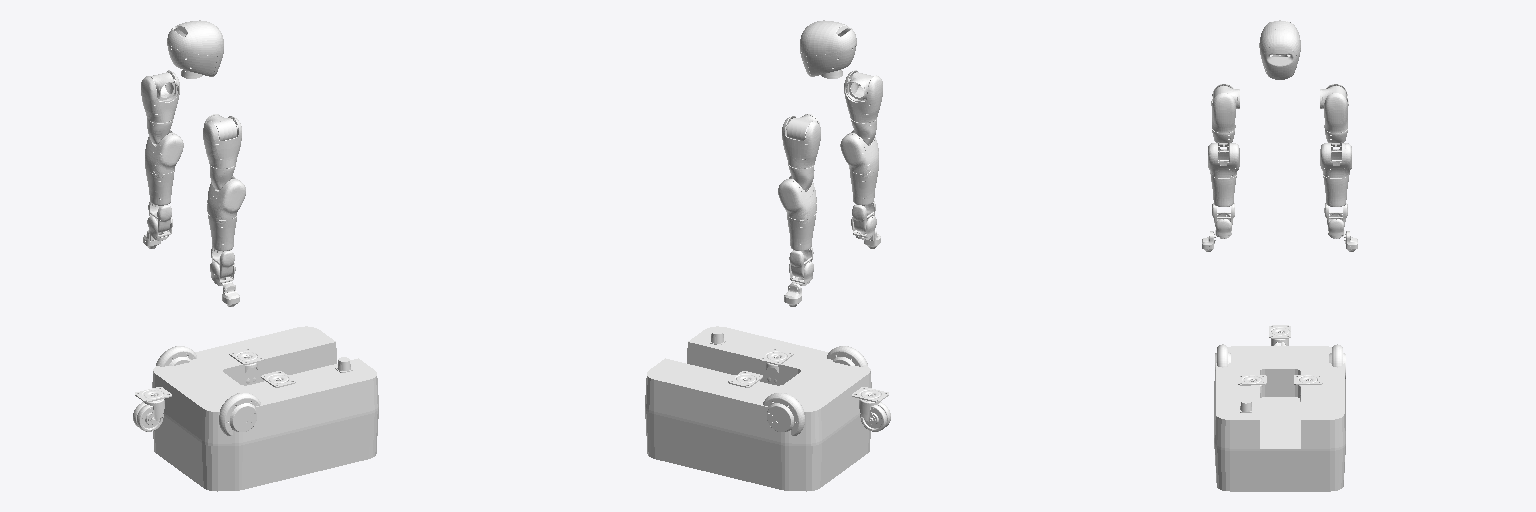
--- Facts derived from the render (not from the file) ---
3 views of the same robot in one strip: view 1: azimuth 30°, elevation 25°; view 2: azimuth 150°, elevation 25°; view 3: azimuth 270°, elevation 25° (orthographic).
Robot: k100 — 50 links, 49 joints (38 revolute, 11 fixed); root link world; default pose: every joint at zero.
Visible links, largest first — view 1: base_link, head_pitch_link, o_wheel1_Link, right_shoulder_roll_link, left_elbow_link, right_elbow_link, left_shoulder_roll_link, o_wheel3_Link, right_wrist_roll_link, left_wrist_roll_link, right_wrist_yaw_link, o_wheel2_Link; view 2: base_link, head_pitch_link, o_wheel2_Link, left_shoulder_roll_link, left_elbow_link, right_elbow_link, right_shoulder_roll_link, o_wheel3_Link, left_wrist_roll_link, right_wrist_roll_link, left_wrist_yaw_link, o_wheel1_Link; view 3: base_link, head_pitch_link, right_elbow_link, left_elbow_link, left_shoulder_roll_link, right_shoulder_roll_link, right_wrist_roll_link, left_wrist_roll_link, left_wrist_yaw_link, right_wrist_yaw_link.
Boxes of the visible links, x1,y1,x2,y2 form: base_link: [152, 326, 378, 491]; head_pitch_link: [167, 20, 223, 76]; o_wheel1_Link: [219, 393, 260, 435]; right_shoulder_roll_link: [203, 116, 241, 168]; left_elbow_link: [145, 130, 183, 174]; right_elbow_link: [207, 176, 245, 219]; left_shoulder_roll_link: [141, 70, 179, 122]; o_wheel3_Link: [133, 387, 171, 431]; right_wrist_roll_link: [208, 214, 236, 250]; left_wrist_roll_link: [145, 168, 174, 205]; right_wrist_yaw_link: [210, 262, 239, 306]; o_wheel2_Link: [156, 346, 196, 366]; base_link: [645, 326, 871, 491]; head_pitch_link: [800, 20, 856, 76]; o_wheel2_Link: [763, 393, 804, 435]; left_shoulder_roll_link: [782, 116, 820, 168]; left_elbow_link: [778, 175, 816, 219]; right_elbow_link: [840, 130, 878, 174]; right_shoulder_roll_link: [844, 70, 882, 122]; o_wheel3_Link: [852, 387, 890, 430]; left_wrist_roll_link: [787, 214, 815, 250]; right_wrist_roll_link: [849, 168, 878, 205]; left_wrist_yaw_link: [784, 261, 813, 306]; o_wheel1_Link: [827, 346, 867, 366]; base_link: [1214, 346, 1345, 491]; head_pitch_link: [1259, 20, 1300, 79]; right_elbow_link: [1208, 143, 1239, 177]; left_elbow_link: [1320, 143, 1351, 177]; left_shoulder_roll_link: [1324, 84, 1348, 132]; right_shoulder_roll_link: [1211, 84, 1235, 132]; right_wrist_roll_link: [1210, 174, 1236, 206]; left_wrist_roll_link: [1323, 175, 1348, 206]; left_wrist_yaw_link: [1328, 214, 1357, 251]; right_wrist_yaw_link: [1202, 214, 1231, 251].
Size in the robot's own frame: 0.8462 by 0.5984 by 1.68 metres.
Meshes: 49 distinct files referenced, 25 mesh visuals loaded (25 binary STL); not drawn: 24 (reference not matched to a file when rendering).

URDF robot description (k100):
<?xml version="1.0" encoding="utf-8"?>
<!-- This URDF was automatically created by SolidWorks to URDF Exporter! Originally created by Stephen Brawner ([email redacted]) 
     Commit Version: 1.6.0-1-g15f4949  Build Version: 1.6.7594.29634
     For more information, please see http://wiki.ros.org/sw_urdf_exporter -->
<robot
  name="k100">
  <link name="world"/>
  <joint name="world_to_base" type="fixed">
    <parent link="world"/>
    <child link="base_link"/>
    <origin xyz="0 0 0" rpy="0 0 0"/>
  </joint>
  <link
    name="base_link">
    <inertial>
      <origin
        xyz="-0.24697 -0.003266 0.43754"
        rpy="0 0 0" />
      <mass
        value="10.058" />
      <inertia
        ixx="0.11397"
        ixy="0.001501"
        ixz="0.0065128"
        iyy="0.11493"
        iyz="-2.0398E-05"
        izz="0.13655" />
    </inertial>
    <visual>
      <origin
        xyz="0 0 0"
        rpy="0 0 0" />
      <geometry>
        <mesh
          filename="package://k100_description/meshes/k100/base_link.STL" />
      </geometry>
      <material
        name="">
        <color
          rgba="1 1 1 1" />
      </material>
    </visual>
    <collision>
      <origin
        xyz="0 0 0"
        rpy="0 0 0" />
      <geometry>
        <mesh
          filename="package://k100_description/meshes/k100/base_link.STL" />
      </geometry>
    </collision>
  </link>
  <link
    name="head_yaw_link">
    <inertial>
      <origin
        xyz="0.0093095 -2.7111E-06 0.019585"
        rpy="0 0 0" />
      <mass
        value="0.033177" />
      <inertia
        ixx="1.0238E-05"
        ixy="2.0171E-07"
        ixz="2.8308E-06"
        iyy="3.6739E-05"
        iyz="-1.7681E-09"
        izz="3.7525E-05" />
    </inertial>
    <visual>
      <origin
        xyz="0 0 0"
        rpy="0 0 0" />
      <geometry>
        <mesh
          filename="package://k100_description/meshes/k100/head_yaw_link.STL" />
      </geometry>
      <material
        name="">
        <color
          rgba="1 1 1 1" />
      </material>
    </visual>
    <collision>
      <origin
        xyz="0 0 0"
        rpy="0 0 0" />
      <geometry>
        <mesh
          filename="package://k100_description/meshes/k100/head_yaw_link.STL" />
      </geometry>
    </collision>
  </link>
  <joint name="head_yaw_joint" type="revolute">
    <origin
      xyz="-0.2915 0 1.3065"
      rpy="0 0 0" />
    <parent
      link="base_link" />
    <child
      link="head_yaw_link" />
    <axis
      xyz="0 0 1" />
    <limit
      lower="-1"
      upper="1"
      effort="0"
      velocity="0" />
  </joint>
  <link
    name="head_pitch_link">
    <inertial>
      <origin
        xyz="-0.010336 0.043982 0.046524"
        rpy="0 0 0" />
      <mass
        value="0.34565" />
      <inertia
        ixx="0.0012251"
        ixy="1.6043E-06"
        ixz="0.00020762"
        iyy="0.0013023"
        iyz="-3.6288E-07"
        izz="0.0012224" />
    </inertial>
    <visual>
      <origin
        xyz="0 0 0"
        rpy="0 0 0" />
      <geometry>
        <mesh
          filename="package://k100_description/meshes/k100/head_pitch_link.STL" />
      </geometry>
      <material
        name="">
        <color
          rgba="1 1 1 1" />
      </material>
    </visual>
    <collision>
      <origin
        xyz="0 0 0"
        rpy="0 0 0" />
      <geometry>
        <mesh
          filename="package://k100_description/meshes/k100/head_pitch_link.STL" />
      </geometry>
    </collision>
  </link>
  <joint
    name="head_pitch_joint"
    type="revolute">
    <origin
      xyz="0.034003 -0.044 0.05251"
      rpy="0 0 0" />
    <parent
      link="head_yaw_link" />
    <child
      link="head_pitch_link" />
    <axis
      xyz="0 -1 0" />
    <limit
      lower="-1"
      upper="1"
      effort="0"
      velocity="0" />
  </joint>
  <link
    name="left_shoulder_pitch_link">
    <inertial>
      <origin
        xyz="-4.5858E-06 0.00022929 0.037911"
        rpy="0 0 0" />
      <mass
        value="0.032279" />
      <inertia
        ixx="3.4609E-05"
        ixy="2.6745E-08"
        ixz="-6.4702E-09"
        iyy="4.7862E-05"
        iyz="-3.7781E-07"
        izz="2.2147E-05" />
    </inertial>
    <visual>
      <origin
        xyz="0 0 0"
        rpy="0 0 0" />
      <geometry>
        <mesh
          filename="package://k100_description/meshes/k100/left_shoulder_pitch_link.STL" />
      </geometry>
      <material
        name="">
        <color
          rgba="1 1 1 1" />
      </material>
    </visual>
    <collision>
      <origin
        xyz="0 0 0"
        rpy="0 0 0" />
      <geometry>
        <mesh
          filename="package://k100_description/meshes/k100/left_shoulder_pitch_link.STL" />
      </geometry>
    </collision>
  </link>
  <joint
    name="left_shoulder_pitch_joint"
    type="revolute">
    <origin
      xyz="-0.29331 0.15637 1.1789"
      rpy="-1.5708 0 0" />
    <parent
      link="base_link" />
    <child
      link="left_shoulder_pitch_link" />
    <axis
      xyz="0 0 1" />
    <limit
      lower="-3.0229102644541785"
      upper="3.005456971934235"
      effort="10"
      velocity="100" />
  </joint>
  <link
    name="left_shoulder_roll_link">
    <inertial>
      <origin
        xyz="0.0529817223822346 0.000381292922410348 -0.0482468772809825"
        rpy="0 0 0" />
      <mass
        value="0.168282055709579" />
      <inertia
        ixx="0.000490405565826638"
        ixy="1.69743273244684E-07"
        ixz="-1.64076112806147E-06"
        iyy="0.000378920723871357"
        iyz="-8.62858713273323E-06"
        izz="0.000220523090720176" />
    </inertial>
    <visual>
      <origin
        xyz="0 0 0"
        rpy="0 0 0" />
      <geometry>
        <mesh
          filename="package://k100_description/meshes/k100/left_shoulder_roll_link.STL" />
      </geometry>
      <material
        name="">
        <color
          rgba="1 1 1 1" />
      </material>
    </visual>
    <collision>
      <origin
        xyz="0 0 0"
        rpy="0 0 0" />
      <geometry>
        <mesh
          filename="package://k100_description/meshes/k100/left_shoulder_roll_link.STL" />
      </geometry>
    </collision>
  </link>
  <joint
    name="left_shoulder_roll_joint"
    type="revolute">
    <origin
      xyz="-0.052528 0 0.057497"
      rpy="1.5708 0 0" />
    <parent
      link="left_shoulder_pitch_link" />
    <child
      link="left_shoulder_roll_link" />
    <axis
      xyz="-1 0 0" />
    <limit
      lower="-3.4033920413889422"
      upper="0.3490658503988659"
      effort="10"
      velocity="100" />
  </joint>
  <link
    name="left_shoulder_yaw_link">
    <inertial>
      <origin
        xyz="0.047728 -0.21486 -0.58242"
        rpy="0 0 0" />
      <mass
        value="13.966" />
      <inertia
        ixx="2.7495"
        ixy="-0.00097403"
        ixz="0.10462"
        iyy="2.6756"
        iyz="0.040666"
        izz="0.52568" />
    </inertial>
    <visual>
      <origin
        xyz="0 0 0"
        rpy="0 0 0" />
      <geometry>
        <mesh
          filename="package://k100_description/meshes/k100/left_shoulder_yaw_link.STL" />
      </geometry>
      <material
        name="">
        <color
          rgba="1 1 1 1" />
      </material>
    </visual>
    <collision>
      <origin
        xyz="0 0 0"
        rpy="0 0 0" />
      <geometry>
        <mesh
          filename="package://k100_description/meshes/k100/left_shoulder_yaw_link.STL" />
      </geometry>
    </collision>
  </link>
  <joint
    name="left_shoulder_yaw_joint"
    type="revolute">
    <origin
      xyz="0.052528 0 -0.1236"
      rpy="0 0 0" />
    <parent
      link="left_shoulder_roll_link" />
    <child
      link="left_shoulder_yaw_link" />
    <axis
      xyz="0 0 -1" />
    <limit
      lower="-1.5707963267948966"
      upper="3.141592653589793"
      effort="10"
      velocity="100" />
  </joint>
  <link
    name="left_elbow_link">
    <inertial>
      <origin
        xyz="-0.012869743810657 0.000118692786157143 -0.02840138793709"
        rpy="0 0 0" />
      <mass
        value="0.165774576195281" />
      <inertia
        ixx="0.000284792774512073"
        ixy="-1.15754165048357E-06"
        ixz="-4.79563912327492E-05"
        iyy="0.000429664716893545"
        iyz="-1.77355295217618E-06"
        izz="0.000243113442796536" />
    </inertial>
    <visual>
      <origin
        xyz="0 0 0"
        rpy="0 0 0" />
      <geometry>
        <mesh
          filename="package://k100_description/meshes/k100/left_elbow_link.STL" />
      </geometry>
      <material
        name="">
        <color
          rgba="1 1 1 1" />
      </material>
    </visual>
    <collision>
      <origin
        xyz="0 0 0"
        rpy="0 0 0" />
      <geometry>
        <mesh
          filename="package://k100_description/meshes/k100/left_elbow_link.STL" />
      </geometry>
    </collision>
  </link>
  <joint
    name="left_elbow_joint"
    type="revolute">
    <origin
      xyz="0.024 0 -0.0964"
      rpy="0 0 0" />
    <parent
      link="left_shoulder_yaw_link" />
    <child
      link="left_elbow_link" />
    <axis
      xyz="0 -1 0" />
    <limit
      lower="-1.5707963267948966"
      upper="2.871066619530672"
      effort="10"
      velocity="100" />
  </joint>
  <link
    name="left_wrist_roll_link">
    <inertial>
      <origin
        xyz="0.0019178 0.00010108 -0.057332"
        rpy="0 0 0" />
      <mass
        value="0.11845" />
      <inertia
        ixx="0.00025823"
        ixy="-2.2846E-08"
        ixz="-1.1422E-08"
        iyy="0.00016834"
        iyz="5.6665E-07"
        izz="0.00012666" />
    </inertial>
    <visual>
      <origin
        xyz="0 0 0"
        rpy="0 0 0" />
      <geometry>
        <mesh
          filename="package://k100_description/meshes/k100/left_wrist_roll_link.STL" />
      </geometry>
      <material
        name="">
        <color
          rgba="1 1 1 1" />
      </material>
    </visual>
    <collision>
      <origin
        xyz="0 0 0"
        rpy="0 0 0" />
      <geometry>
        <mesh
          filename="package://k100_description/meshes/k100/left_wrist_roll_link.STL" />
      </geometry>
    </collision>
  </link>
  <joint
    name="left_wrist_roll_joint"
    type="revolute">
    <origin
      xyz="-0.02574 0 -0.094"
      rpy="0 0 0" />
    <parent
      link="left_elbow_link" />
    <child
      link="left_wrist_roll_link" />
    <axis
      xyz="0 0 -1" />
    <limit
      lower="-2.9670597283903604"
      upper="3.01941960595019"
      effort="10"
      velocity="100" />
  </joint>
  <link
    name="left_wrist_pitch_link">
    <inertial>
      <origin
        xyz="-0.000376443250173261 0.0385887267181524 -0.0284852092797504"
        rpy="0 0 0" />
      <mass
        value="0.0508307380202339" />
      <inertia
        ixx="6.07885115247108E-05"
        ixy="-6.74245978776449E-09"
        ixz="-5.22922284897702E-07"
        iyy="6.71946692283685E-05"
        iyz="-4.67909273179692E-07"
        izz="1.93580958562299E-05" />
    </inertial>
    <visual>
      <origin
        xyz="0 0 0"
        rpy="0 0 0" />
      <geometry>
        <mesh
          filename="package://k100_description/meshes/k100/left_wrist_pitch_link.STL" />
      </geometry>
      <material
        name="">
        <color
          rgba="1 1 1 1" />
      </material>
    </visual>
    <collision>
      <origin
        xyz="0 0 0"
        rpy="0 0 0" />
      <geometry>
        <mesh
          filename="package://k100_description/meshes/k100/left_wrist_pitch_link.STL" />
      </geometry>
    </collision>
  </link>
  <joint
    name="left_wrist_pitch_joint"
    type="revolute">
    <origin
      xyz="0.0017429 -0.03829 -0.152"
      rpy="0 0 0" />
    <parent
      link="left_wrist_roll_link" />
    <child
      link="left_wrist_pitch_link" />
    <axis
      xyz="0 -1 0" />
    <limit
      lower="-1.8151424220741028"
      upper="1.8849555921538759"
      effort="10"
      velocity="100" />
  </joint>
  <link
    name="left_wrist_yaw_link">
    <inertial>
      <origin
        xyz="-0.026886 0.02123 -0.053746"
        rpy="0 0 0" />
      <mass
        value="0.15595" />
      <inertia
        ixx="6.5671E-05"
        ixy="-4.9995E-08"
        ixz="9.659E-09"
        iyy="5.3338E-05"
        iyz="5.4196E-06"
        izz="6.5262E-05" />
    </inertial>
    <visual>
      <origin
        xyz="0 0 0"
        rpy="0 0 0" />
      <geometry>
        <mesh
          filename="package://k100_description/meshes/k100/left_wrist_yaw_link.STL" />
      </geometry>
      <material
        name="">
        <color
          rgba="1 1 1 1" />
      </material>
    </visual>
    <collision>
      <origin
        xyz="0 0 0"
        rpy="0 0 0" />
      <geometry>
        <mesh
          filename="package://k100_description/meshes/k100/left_wrist_yaw_link.STL" />
      </geometry>
    </collision>
  </link>
  <joint
    name="left_wrist_yaw_joint"
    type="revolute">
    <origin
      xyz="0.026797 0.0383 -0.053999"
      rpy="0 0 0" />
    <parent
      link="left_wrist_pitch_link" />
    <child
      link="left_wrist_yaw_link" />
    <axis
      xyz="1 0 0" />
    <limit
      lower="-1.5707963267948966"
      upper="1.605702911834783"
      effort="10"
      velocity="100" />
  </joint>
  <link
    name="right_shoulder_pitch_link">
    <inertial>
      <origin
        xyz="4.3409E-06 -0.00022905 0.043911"
        rpy="0 0 0" />
      <mass
        value="0.032279" />
      <inertia
        ixx="3.4609E-05"
        ixy="2.6745E-08"
        ixz="6.4702E-09"
        iyy="4.7862E-05"
        iyz="3.7781E-07"
        izz="2.2147E-05" />
    </inertial>
    <visual>
      <origin
        xyz="0 0 0"
        rpy="0 0 0" />
      <geometry>
        <mesh
          filename="package://k100_description/meshes/k100/right_shoulder_pitch_link.STL" />
      </geometry>
      <material
        name="">
        <color
          rgba="1 1 1 1" />
      </material>
    </visual>
    <collision>
      <origin
        xyz="0 0 0"
        rpy="0 0 0" />
      <geometry>
        <mesh
          filename="package://k100_description/meshes/k100/right_shoulder_pitch_link.STL" />
      </geometry>
    </collision>
  </link>
  <joint
    name="right_shoulder_pitch_joint"
    type="revolute">
    <origin
      xyz="-0.29331 -0.15184 1.1789"
      rpy="1.5708 0 0" />
    <parent
      link="base_link" />
    <child
      link="right_shoulder_pitch_link" />
    <axis
      xyz="0 0 -1" />
    <limit
      lower="-3.0229102644541785"
      upper="3.005456971934235"
      effort="10"
      velocity="100" />
  </joint>
  <link
    name="right_shoulder_roll_link">
    <inertial>
      <origin
        xyz="0.00039109 -0.0003817 -0.048245"
        rpy="0 0 0" />
      <mass
        value="0.16826" />
      <inertia
        ixx="0.00049035"
        ixy="2.6217E-07"
        ixz="2.8524E-07"
        iyy="0.00037893"
        iyz="8.6202E-06"
        izz="0.0002205" />
    </inertial>
    <visual>
      <origin
        xyz="0 0 0"
        rpy="0 0 0" />
      <geometry>
        <mesh
          filename="package://k100_description/meshes/k100/right_shoulder_roll_link.STL" />
      </geometry>
      <material
        name="">
        <color
          rgba="1 1 1 1" />
      </material>
    </visual>
    <collision>
      <origin
        xyz="0 0 0"
        rpy="0 0 0" />
      <geometry>
        <mesh
          filename="package://k100_description/meshes/k100/right_shoulder_roll_link.STL" />
      </geometry>
    </collision>
  </link>
  <joint
    name="right_shoulder_roll_joint"
    type="revolute">
    <origin
      xyz="0 0 0.063497"
      rpy="-1.5708 0 0" />
    <parent
      link="right_shoulder_pitch_link" />
    <child
      link="right_shoulder_roll_link" />
    <axis
      xyz="1 0 0" />
    <limit
      lower="-3.4033920413889422"
      upper="0.29670597283903605"
      effort="10"
      velocity="100" />
  </joint>

  <link
    name="right_shoulder_yaw_link">
    <inertial>
      <origin
        xyz="0.047728 0.21434 -0.58242"
        rpy="0 0 0" />
      <mass
        value="13.966" />
      <inertia
        ixx="2.7495"
        ixy="-0.00097403"
        ixz="0.10462"
        iyy="2.6756"
        iyz="0.040666"
        izz="0.52568" />
    </inertial>
    <visual>
      <origin
        xyz="0 0 0"
        rpy="0 0 0" />
      <geometry>
        <mesh
          filename="package://k100_description/meshes/k100/right_shoulder_yaw_link.STL" />
      </geometry>
      <material
        name="">
        <color
          rgba="1 1 1 1" />
      </material>
    </visual>
    <collision>
      <origin
        xyz="0 0 0"
        rpy="0 0 0" />
      <geometry>
        <mesh
          filename="package://k100_description/meshes/k100/right_shoulder_yaw_link.STL" />
      </geometry>
    </collision>
  </link>
  <joint
    name="right_shoulder_yaw_joint"
    type="revolute">
    <origin
      xyz="0 0 -0.1236"
      rpy="0 0 0" />
    <parent
      link="right_shoulder_roll_link" />
    <child
      link="right_shoulder_yaw_link" />
    <axis
      xyz="0 0 1" />
    <limit
      lower="-1.5707963267948966"
      upper="3.141592653589793"
      effort="10"
      velocity="100" />
  </joint>
  <link
    name="right_elbow_link">
    <inertial>
      <origin
        xyz="-0.012827 -0.0009453 -0.028372"
        rpy="0 0 0" />
      <mass
        value="0.16555" />
      <inertia
        ixx="0.00028451"
        ixy="6.8087E-07"
        ixz="-4.7913E-05"
        iyy="0.00042913"
        iyz="2.0386E-06"
        izz="0.00024258" />
    </inertial>
    <visual>
      <origin
        xyz="0 0 0"
        rpy="0 0 0" />
      <geometry>
        <mesh
          filename="package://k100_description/meshes/k100/right_elbow_link.STL" />
      </geometry>
      <material
        name="">
        <color
          rgba="1 1 1 1" />
      </material>
    </visual>
    <collision>
      <origin
        xyz="0 0 0"
        rpy="0 0 0" />
      <geometry>
        <mesh
          filename="package://k100_description/meshes/k100/right_elbow_link.STL" />
      </geometry>
    </collision>
  </link>
  <joint
    name="right_elbow_joint"
    type="revolute">
    <origin
      xyz="0.024 0.0003 -0.0964"
      rpy="0 0 0" />
    <parent
      link="right_shoulder_yaw_link" />
    <child
      link="right_elbow_link" />
    <axis
      xyz="0 -1 0" />
    <limit
      lower="-1.5533430342749535"
      upper="2.897246558310587"
      effort="10"
      velocity="100" />
  </joint>
  <link
    name="right_wrist_roll_link">
    <inertial>
      <origin
        xyz="0.0019175 0.0001012 -0.057332"
        rpy="0 0 0" />
      <mass
        value="0.11845" />
      <inertia
        ixx="0.00025823"
        ixy="-2.314E-08"
        ixz="-1.1321E-08"
        iyy="0.00016834"
        iyz="5.6668E-07"
        izz="0.00012666" />
    </inertial>
    <visual>
      <origin
        xyz="0 0 0"
        rpy="0 0 0" />
      <geometry>
        <mesh
          filename="package://k100_description/meshes/k100/right_wrist_roll_link.STL" />
      </geometry>
      <material
        name="">
        <color
          rgba="1 1 1 1" />
      </material>
    </visual>
    <collision>
      <origin
        xyz="0 0 0"
        rpy="0 0 0" />
      <geometry>
        <mesh
          filename="package://k100_description/meshes/k100/right_wrist_roll_link.STL" />
      </geometry>
    </collision>
  </link>
  <joint
    name="right_wrist_roll_joint"
    type="revolute">
    <origin
      xyz="-0.02574 -0.00030967 -0.094"
      rpy="0 0 0" />
      
    <parent
      link="right_elbow_link" />
    <child
      link="right_wrist_roll_link" />
   <axis
      xyz="0 0 1" />
    <limit
      lower="-1.8325957145940461"
      upper="1.8325957145940461"
      effort="10"
      velocity="100" />
  </joint>
  <link
    name="right_wrist_pitch_link">
    <inertial>
      <origin
        xyz="-0.00037598 0.037227 -0.028477"
        rpy="0 0 0" />
      <mass
        value="0.05082" />
      <inertia
        ixx="6.077E-05"
        ixy="1.5462E-09"
        ixz="-5.2222E-07"
        iyy="6.7177E-05"
        iyz="5.052E-07"
        izz="1.9356E-05" />
    </inertial>
    <visual>
      <origin
        xyz="0 0 0"
        rpy="0 0 0" />
      <geometry>
        <mesh
          filename="package://k100_description/meshes/k100/right_wrist_pitch_link.STL" />
      </geometry>
      <material
        name="">
        <color
          rgba="1 1 1 1" />
      </material>
    </visual>
    <collision>
      <origin
        xyz="0 0 0"
        rpy="0 0 0" />
      <geometry>
        <mesh
          filename="package://k100_description/meshes/k100/right_wrist_pitch_link.STL" />
      </geometry>
    </collision>
  </link>
    <joint
    name="right_wrist_pitch_joint"
    type="revolute">
    <origin
      xyz="0.0017429 -0.03829 -0.152"
      rpy="0 0 0" />
    <parent
      link="right_wrist_roll_link" />
    <child
      link="right_wrist_pitch_link" />
     <axis
      xyz="0 -1 0" />
    <limit
      lower="-1.8325957145940461"
      upper="1.8325957145940461"
      effort="10"
      velocity="100" />
  </joint>
  <link
    name="right_wrist_yaw_link">
    <inertial>
      <origin
        xyz="-0.026833 -0.021351 -0.053746"
        rpy="0 0 0" />
      <mass
        value="0.15595" />
      <inertia
        ixx="6.5671E-05"
        ixy="-4.9993E-08"
        ixz="1.9957E-08"
        iyy="5.3338E-05"
        iyz="-5.9111E-06"
        izz="6.5262E-05" />
    </inertial>
    <visual>
      <origin
        xyz="0 0 0"
        rpy="0 0 0" />
      <geometry>
        <mesh
          filename="package://k100_description/meshes/k100/right_wrist_yaw_link.STL" />
      </geometry>
      <material
        name="">
        <color
          rgba="1 1 1 1" />
      </material>
    </visual>
    <collision>
      <origin
        xyz="0 0 0"
        rpy="0 0 0" />
      <geometry>
        <mesh
          filename="package://k100_description/meshes/k100/right_wrist_yaw_link.STL" />
      </geometry>
    </collision>
  </link>
  <joint
    name="right_wrist_yaw_joint"
    type="revolute">
    <origin
      xyz="0.026797 0.0383 -0.053999"
      rpy="0 0 0" />
    <parent
      link="right_wrist_pitch_link" />
    <child
      link="right_wrist_yaw_link" />
    <axis
      xyz="-1 0 0" />
    <limit
      lower="-1.5882496193148399"
      upper="1.5882496193148399"
      effort="10"
      velocity="100" />
  </joint>
  <link
    name="o_wheel1_Link">
    <inertial>
      <origin
        xyz="-6.8663E-06 -0.033131 5.3329E-06"
        rpy="0 0 0" />
      <mass
        value="0.49216" />
      <inertia
        ixx="0.0011111"
        ixy="-3.5628E-08"
        ixz="-5.8814E-09"
        iyy="0.0021452"
        iyz="1.3891E-08"
        izz="0.0011111" />
    </inertial>
    <visual>
      <origin
        xyz="0 0 0"
        rpy="0 0 0" />
      <geometry>
        <mesh
          filename="package://k100_description/meshes/k100/o_wheel1_Link.STL" />
      </geometry>
      <material
        name="">
        <color
          rgba="1 1 1 1" />
      </material>
    </visual>
    <collision>
      <origin
        xyz="0 0 0"
        rpy="0 0 0" />
      <geometry>
        <mesh
          filename="package://k100_description/meshes/k100/o_wheel1_Link.STL" />
      </geometry>
    </collision>
  </link>
  <joint
    name="w_body_wheel1_joint"
    type="fixed">
    <origin
      xyz="-0.2245 -0.1858 0.085"
      rpy="0 0 0" />
    <parent
      link="base_link" />
    <child
      link="o_wheel1_Link" />
    <axis
      xyz="0 -1 0" />
  </joint>
  <link
    name="o_wheel2_Link">
    <inertial>
      <origin
        xyz="-7.0583E-06 0.033132 5.0699E-06"
        rpy="0 0 0" />
      <mass
        value="0.49215" />
      <inertia
        ixx="0.0011111"
        ixy="3.4274E-08"
        ixz="-5.7353E-09"
        iyy="0.0021452"
        iyz="-1.5505E-08"
        izz="0.001111" />
    </inertial>
    <visual>
      <origin
        xyz="0 0 0"
        rpy="0 0 0" />
      <geometry>
        <mesh
          filename="package://k100_description/meshes/k100/o_wheel2_Link.STL" />
      </geometry>
      <material
        name="">
        <color
          rgba="1 1 1 1" />
      </material>
    </visual>
    <collision>
      <origin
        xyz="0 0 0"
        rpy="0 0 0" />
      <geometry>
        <mesh
          filename="package://k100_description/meshes/k100/o_wheel2_Link.STL" />
      </geometry>
    </collision>
  </link>
  <joint
    name="w_body_wheel2_joint"
    type="fixed">
    <origin
      xyz="-0.2245 0.1858 0.085"
      rpy="0 0 0" />
    <parent
      link="base_link" />
    <child
      link="o_wheel2_Link" />
    <axis
      xyz="0 1 0" />
  </joint>
  <link
    name="o_wheel3_Link">
    <inertial>
      <origin
        xyz="-0.0199999967173905 -1.09082498357946E-10 -0.0759999999999938"
        rpy="0 0 0" />
      <mass
        value="0.0865252381159967" />
      <inertia
        ixx="9.47065367250295E-05"
        ixy="3.97322843103075E-19"
        ixz="-3.9510490256026E-12"
        iyy="0.000182809576289922"
        iyz="-1.20119572882808E-19"
        izz="9.4688065891407E-05" />
    </inertial>
    <visual>
      <origin
        xyz="0 0 0"
        rpy="0 0 0" />
      <geometry>
        <mesh
          filename="package://k100_description/meshes/k100/o_wheel3_Link.STL" />
      </geometry>
      <material
        name="">
        <color
          rgba="1 1 1 1" />
      </material>
    </visual>
    <collision>
      <origin
        xyz="0 0 0"
        rpy="0 0 0" />
      <geometry>
        <mesh
          filename="package://k100_description/meshes/k100/o_wheel3_Link.STL" />
      </geometry>
    </collision>
  </link>
  <joint
    name="w_body_wheel3_joint"
    type="fixed">
    <origin
      xyz="-0.4445 0 0.126"
      rpy="0 0 0" />
    <parent
      link="base_link" />
    <child
      link="o_wheel3_Link" />
    <axis
      xyz="0 0 -1" />
  </joint>
  <link
    name="o_wheel3_1_Link">
    <inertial>
      <origin
        xyz="3.2825E-09 0.018 2.6532E-13"
        rpy="0 0 0" />
      <mass
        value="0.086525" />
      <inertia
        ixx="9.4707E-05"
        ixy="3.9732E-19"
        ixz="-3.951E-12"
        iyy="0.00018281"
        iyz="-1.2012E-19"
        izz="9.4688E-05" />
    </inertial>
    <visual>
      <origin
        xyz="0 0 0"
        rpy="0 0 0" />
      <geometry>
        <mesh
          filename="package://k100_description/meshes/k100/o_wheel3_1_Link.STL" />
      </geometry>
      <material
        name="">
        <color
          rgba="1 1 1 1" />
      </material>
    </visual>
    <collision>
      <origin
        xyz="0 0 0"
        rpy="0 0 0" />
      <geometry>
        <mesh
          filename="package://k100_description/meshes/k100/o_wheel3_1_Link.STL" />
      </geometry>
    </collision>
  </link>
  <joint
    name="w_body_wheel3_1_joint"
    type="fixed">
    <origin
      xyz="-0.02 -0.018 -0.076"
      rpy="0 0 0" />
    <parent
      link="o_wheel3_Link" />
    <child
      link="o_wheel3_1_Link" />
    <axis
      xyz="0 -1 0" />
  </joint>
  <link
    name="o_wheel4_Link">
    <inertial>
      <origin
        xyz="-0.00028246 0.019998 -0.076"
        rpy="0 0 0" />
      <mass
        value="0.086776" />
      <inertia
        ixx="0.0001828"
        ixy="1.2442E-06"
        ixz="-5.5784E-14"
        iyy="9.473E-05"
        iyz="3.9495E-12"
        izz="9.4694E-05" />
    </inertial>
    <visual>
      <origin
        xyz="0 0 0"
        rpy="0 0 0" />
      <geometry>
        <mesh
          filename="package://k100_description/meshes/k100/o_wheel4_Link.STL" />
      </geometry>
      <material
        name="">
        <color
          rgba="1 1 1 1" />
      </material>
    </visual>
    <collision>
      <origin
        xyz="0 0 0"
        rpy="0 0 0" />
      <geometry>
        <mesh
          filename="package://k100_description/meshes/k100/o_wheel4_Link.STL" />
      </geometry>
    </collision>
  </link>
  <joint
    name="w_body_wheel4_joint"
    type="fixed">
    <origin
      xyz="-0.011114 0.10642 0.126"
      rpy="0 0 0" />
    <parent
      link="base_link" />
    <child
      link="o_wheel4_Link" />
    <axis
      xyz="0 0 1" />
  </joint>
  <link
    name="o_wheel4_1_Link">
    <inertial>
      <origin
        xyz="0.017998 0.00025421 2.6533E-13"
        rpy="0 0 0" />
      <mass
        value="0.086525" />
      <inertia
        ixx="0.00018279"
        ixy="1.2441E-06"
        ixz="-5.5784E-14"
        iyy="9.4724E-05"
        iyz="3.9495E-12"
        izz="9.4688E-05" />
    </inertial>
    <visual>
      <origin
        xyz="0 0 0"
        rpy="0 0 0" />
      <geometry>
        <mesh
          filename="package://k100_description/meshes/k100/o_wheel4_1_Link.STL" />
      </geometry>
      <material
        name="">
        <color
          rgba="1 1 1 1" />
      </material>
    </visual>
    <collision>
      <origin
        xyz="0 0 0"
        rpy="0 0 0" />
      <geometry>
        <mesh
          filename="package://k100_description/meshes/k100/o_wheel4_1_Link.STL" />
      </geometry>
    </collision>
  </link>
  <joint
    name="w_body_wheel4_1_joint"
    type="fixed">
    <origin
      xyz="-0.018281 0.019744 -0.076"
      rpy="0 0 0" />
    <parent
      link="o_wheel4_Link" />
    <child
      link="o_wheel4_1_Link" />
    <axis
      xyz="-0.9999 -0.014123 0" />
  </joint>
  <link
    name="o_wheel5_Link">
    <inertial>
      <origin
        xyz="0.00037442 -0.019996 -0.076"
        rpy="0 0 0" />
      <mass
        value="0.086776" />
      <inertia
        ixx="0.00018279"
        ixy="1.6492E-06"
        ixz="7.3946E-14"
        iyy="9.4743E-05"
        iyz="-3.9492E-12"
        izz="9.4694E-05" />
    </inertial>
    <visual>
      <origin
        xyz="0 0 0"
        rpy="0 0 0" />
      <geometry>
        <mesh
          filename="package://k100_description/meshes/k100/o_wheel5_Link.STL" />
      </geometry>
      <material
        name="">
        <color
          rgba="1 1 1 1" />
      </material>
    </visual>
    <collision>
      <origin
        xyz="0 0 0"
        rpy="0 0 0" />
      <geometry>
        <mesh
          filename="package://k100_description/meshes/k100/o_wheel5_Link.STL" />
      </geometry>
    </collision>
  </link>
  <joint
    name="w_body_wheel5_joint"
    type="fixed">
    <origin
      xyz="-0.0096938 -0.10655 0.126"
      rpy="0 0 0" />
    <parent
      link="base_link" />
    <child
      link="o_wheel5_Link" />
    <axis
      xyz="0 0 1" />
  </joint>
  <link
    name="o_wheel5_1_Link">
    <inertial>
      <origin
        xyz="-0.017997 -0.00033697 2.6533E-13"
        rpy="0 0 0" />
      <mass
        value="0.086525" />
      <inertia
        ixx="0.00018278"
        ixy="1.6491E-06"
        ixz="7.3946E-14"
        iyy="9.4737E-05"
        iyz="-3.9492E-12"
        izz="9.4688E-05" />
    </inertial>
    <visual>
      <origin
        xyz="0 0 0"
        rpy="0 0 0" />
      <geometry>
        <mesh
          filename="package://k100_description/meshes/k100/o_wheel5_1_Link.STL" />
      </geometry>
      <material
        name="">
        <color
          rgba="1 1 1 1" />
      </material>
    </visual>
    <collision>
      <origin
        xyz="0 0 0"
        rpy="0 0 0" />
      <geometry>
        <mesh
          filename="package://k100_description/meshes/k100/o_wheel5_1_Link.STL" />
      </geometry>
    </collision>
  </link>
  <joint
    name="w_body_wheel5_1_joint"
    type="fixed">
    <origin
      xyz="0.018371 -0.01966 -0.076"
      rpy="0 0 0" />
    <parent
      link="o_wheel5_Link" />
    <child
      link="o_wheel5_1_Link" />
    <axis
      xyz="-0.99982 -0.018721 0" />
  </joint>

  <!-- left hand -->



  <joint name="L_base_link_joint" type="fixed">
    <origin xyz="-0.0268 0.005 -0.051" rpy="0 -1.57 -1.57"/>
    <parent link="left_wrist_yaw_link"/>
    <child link="L_hand_base_link"/>
  </joint>
  
  
  <link name="L_hand_base_link">
    <inertial>
      <origin xyz="-0.0545705623202243 0.000958522654081762 -0.00306438373173582" rpy="0 0 0" />
      <mass value="0.0367658161456593" />
      <inertia ixx="1.4186714203091E-05" ixy="2.20190989146005E-06" ixz="5.69534967571968E-07"
               iyy="1.58584689691376E-05" iyz="1.24561852404914E-07" izz="2.47326344757226E-05" />
    </inertial>
    <visual>
      <origin xyz="0 0 0" rpy="0 0 0" />
      <geometry>
        <mesh filename="package://k100_description/meshes/meshes_rohand_lites/L_base_link.STL" />
      </geometry>
      <material name="">
        <color rgba="1 1 1 1" />
      </material>
    </visual>
    <collision>
      <origin xyz="0 0 0" rpy="0 0 0" />
      <geometry>
        <mesh filename="package://k100_description/meshes/meshes_rohand_lites/L_base_link.STL" />
      </geometry>
    </collision>
  </link>

  <link name="L_thumb_proximal_base">
    <inertial>
      <origin xyz="-0.0191689187756942 0.00569828615821762 -0.0016693852678177" rpy="0 0 0" />
      <mass value="0.00195345377003282" />
      <inertia ixx="1.6596112048292E-07" ixy="7.96099037248168E-08" ixz="-1.16578799172214E-08"
               iyy="1.8147620690714E-07" iyz="1.22841840818757E-08" izz="2.16329221955122E-07" />
    </inertial>
    <visual>
      <origin xyz="0 0 0" rpy="0 0 0" />
      <geometry>
        <mesh filename="package://k100_description/meshes/meshes_rohand_lites/L_th_root_link.STL" />
      </geometry>
      <material name="">
        <color rgba="1 1 1 1" />
      </material>
    </visual>
    <collision>
      <origin xyz="0 0 0" rpy="0 0 0" />
      <geometry>
        <mesh filename="package://k100_description/meshes/meshes_rohand_lites/L_th_root_link.STL" />
      </geometry>
    </collision>
  </link>

  <joint name="L_thumb_proximal_yaw_joint" type="revolute">
    <origin xyz="-0.02474 0.01826 -0.019216" rpy="0.0075757 -0.22303 -0.034238" />
    <parent link="L_hand_base_link" />
    <child link="L_thumb_proximal_base" />
    <axis xyz="-1 0 0" />
    <limit lower="-0.1" upper="1.7" effort="1" velocity="2.0" acceleration="5.0" />
  </joint>

  <link name="L_thumb_proximal">
    <inertial>
      <origin xyz="-0.0185320909111181 0.00765760336647799 0.00769895948516403" rpy="0 0 0" />
      <mass value="0.00646398971921865" />
      <inertia ixx="5.69701043131816E-07" ixy="4.94299712334608E-07" ixz="-1.81638866874203E-09"
               iyy="1.67594826700605E-06" iyz="5.54953034071743E-10" izz="2.12783428410059E-06" />
    </inertial>
    <visual>
      <origin xyz="0 0 0" rpy="0 0 0" />
      <geometry>
        <mesh filename="package://k100_description/meshes/meshes_rohand_lites/L_th_proximal_link.STL" />
      </geometry>
      <material name="">
        <color rgba="1 1 1 1" />
      </material>
    </visual>
    <collision>
      <origin xyz="0 0 0" rpy="0 0 0" />
      <geometry>
        <mesh filename="package://k100_description/meshes/meshes_rohand_lites/L_th_proximal_link.STL" />
      </geometry>
    </collision>
  </link>

  <joint name="L_thumb_proximal_pitch_joint" type="revolute">
    <origin xyz="-0.0281675109233723 0.0206776396558676 -0.010414259606288" rpy="-0.00721290411178693 0.000240878411888333 0.0333895499404722" />
    <parent link="L_thumb_proximal_base" />
    <child link="L_thumb_proximal" />
    <axis xyz="0 0 1" />
    <limit lower="0.0" upper="0.4" effort="1" velocity="2.0" acceleration="5.0" />
  </joint>

  <link name="L_thumb_distal">
    <inertial>
      <origin xyz="-0.00904754564000706 0.00635260162604825 0.00681129533264973" rpy="0 0 0" />
      <mass value="0.00464616025042038" />
      <inertia ixx="1.73155668678773E-07" ixy="2.14376248212519E-08" ixz="7.68875433779967E-12"
               iyy="2.35273874670456E-07" iyz="-7.75559011609892E-13" izz="2.09949102085074E-07" />
    </inertial>
    <visual>
      <origin xyz="0 0 0" rpy="0 0 0" />
      <geometry>
        <mesh filename="package://k100_description/meshes/meshes_rohand_lites/L_th_distal_link.STL" />
      </geometry>
      <material name="">
        <color rgba="1 1 1 1" />
      </material>
    </visual>
    <collision>
      <origin xyz="0 0 0" rpy="0 0 0" />
      <geometry>
        <mesh filename="package://k100_description/meshes/meshes_rohand_lites/L_th_distal_link.STL" />
      </geometry>
    </collision>
  </link>

  <joint name="L_thumb_distal_joint" type="revolute">
    <origin xyz="-0.0479097598406365 0.0140073523016571 0.000879436248969738" rpy="0 0 0" />
    <parent link="L_thumb_proximal" />
    <child link="L_thumb_distal" />
    <axis xyz="0 0 1" />
    <limit lower="0" upper="1.2" effort="1" velocity="2.0" acceleration="5.0" />
    <mimic joint="L_thumb_proximal_pitch_joint" multiplier="1.0" offset="0" />
  </joint>

  <link name="L_index_proximal">
    <inertial>
      <origin xyz="-0.01442568349862 0.00682000254611658 0.0074253497626635" rpy="0 0 0" />
      <mass value="0.0020519557292877" />
      <inertia ixx="8.09627570327931E-08" ixy="4.81487284472085E-12" ixz="2.82088862566871E-08"
               iyy="1.89814037862563E-07" iyz="-4.52934896397488E-12" izz="1.96626325307393E-07" />
    </inertial>
    <visual>
      <origin xyz="0 0 0" rpy="0 0 0" />
      <geometry>
        <mesh filename="package://k100_description/meshes/meshes_rohand_lites/L_if_proximal_link.STL" />
      </geometry>
      <material name="">
        <color rgba="1 1 1 1" />
      </material>
    </visual>
    <collision>
      <origin xyz="0 0 0" rpy="0 0 0" />
      <geometry>
        <mesh filename="package://k100_description/meshes/meshes_rohand_lites/L_if_proximal_link.STL" />
      </geometry>
    </collision>
  </link>

<!-- Note: 坐标轴x旋转了180度，暂时改旋转轴向 -->
  <joint name="L_index_proximal_joint" type="revolute">
    <origin xyz="-0.10628 0.036856 -0.0014156" rpy="3.0548 -0.0091764 -0.10508" />
    <parent link="L_hand_base_link" />
    <child link="L_index_proximal" />
    <axis xyz="0 1 0" />
    <limit lower="0" upper="1.2" effort="1" velocity="2.0" acceleration="5.0" />
  </joint>

  <link name="L_index_intermediate">
    <inertial>
      <origin xyz="-0.0123180967294782 -0.00644820912302179 -0.0158568630315067" rpy="0 0 0" />
      <mass value="0.00375858037616174" />
      <inertia ixx="2.63130516542119E-07" ixy="-2.88831462706391E-10" ixz="-1.76316850016938E-07"
               iyy="4.17185892023749E-07" iyz="-3.2422000909467E-10" izz="2.11620474724111E-07" />
    </inertial>
    <visual>
      <origin xyz="0 0 0" rpy="0 0 0" />
      <geometry>
        <mesh filename="package://k100_description/meshes/meshes_rohand_lites/L_if_distal_link.STL" />
      </geometry>
      <material name="">
        <color rgba="1 1 1 1" />
      </material>
    </visual>
    <collision>
      <origin xyz="0 0 0" rpy="0 0 0" />
      <geometry>
        <mesh filename="package://k100_description/meshes/meshes_rohand_lites/L_if_distal_link.STL" />
      </geometry>
    </collision>
  </link>

  <joint name="L_index_intermediate_joint" type="revolute">
    <origin xyz="-0.030939 0.00036803 0.010438" rpy="3.1416 0 0" />
    <parent link="L_index_proximal" />
    <child link="L_index_intermediate" />
    <axis xyz="0 -1 0" />
    <limit lower="0" upper="1.7" effort="1" velocity="2.0" acceleration="5.0" />
    <mimic joint="L_index_proximal_joint" multiplier="1" offset="0" />
  </joint>

  <link name="L_middle_proximal">
    <inertial>
      <origin xyz="-0.0163278718217205 -0.00649192295378876 -0.00963335617479526" rpy="0 0 0" />
      <mass value="0.00248819746655502" />
      <inertia ixx="1.10601992595461E-07" ixy="4.54446489000609E-11" ixz="-6.04962189304454E-08"
               iyy="2.84385954136736E-07" iyz="4.48881092592545E-11" izz="2.73053329475105E-07" />
    </inertial>
    <visual>
      <origin xyz="0 0 0" rpy="0 0 0" />
      <geometry>
        <mesh filename="package://k100_description/meshes/meshes_rohand_lites/L_mf_proximal_link.STL" />
      </geometry>
      <material name="">
        <color rgba="1 1 1 1" />
      </material>
    </visual>
    <collision>
      <origin xyz="0 0 0" rpy="0 0 0" />
      <geometry>
        <mesh filename="package://k100_description/meshes/meshes_rohand_lites/L_mf_proximal_link.STL" />
      </geometry>
    </collision>
  </link>

  <joint name="L_middle_proximal_joint" type="revolute">
    <origin xyz="-0.11015 0.018475 0.0030758" rpy="0.00016503 0 -0.035692" />
    <parent link="L_hand_base_link" />
    <child link="L_middle_proximal" />
    <axis xyz="0 -1 0" />
    <limit lower="0" upper="1.2" effort="1" velocity="2.0" acceleration="5.0" />
  </joint>

  <link name="L_middle_intermediate">
    <inertial>
      <origin xyz="-0.0117763908650274 -0.00644267727147304 -0.0162627454095642" rpy="0 0 0" />
      <mass value="0.00375852857432825" />
      <inertia ixx="2.74945310213643E-07" ixy="-2.76421249981728E-10" ixz="-1.74176296887232E-07"
               iyy="4.17175733749449E-07" iyz="-3.32560853157935E-10" izz="1.99795426402673E-07" />
    </inertial>
    <visual>
      <origin xyz="0 0 0" rpy="0 0 0" />
      <geometry>
        <mesh filename="package://k100_description/meshes/meshes_rohand_lites/L_mf_distal_link.STL" />
      </geometry>
      <material name="">
        <color rgba="1 1 1 1" />
      </material>
    </visual>
    <collision>
      <origin xyz="0 0 0" rpy="0 0 0" />
      <geometry>
        <mesh filename="package://k100_description/meshes/meshes_rohand_lites/L_mf_distal_link.STL" />
      </geometry>
    </collision>
  </link>

  <joint name="L_middle_intermediate_joint" type="revolute">
    <origin xyz="-0.034844 -5.0349E-05 -0.013726" rpy="0.0043984 0.00019026 -0.0075363" />
    <parent link="L_middle_proximal" />
    <child link="L_middle_intermediate" />
    <axis xyz="0 -1 0" />
    <limit lower="0" upper="1.7" effort="1" velocity="2.0" acceleration="5.0" />
    <mimic joint="L_middle_proximal_joint" multiplier="1" offset="0" />
  </joint>

  <link name="L_ring_proximal">
    <inertial>
      <origin xyz="-0.0143563671796693 0.00681998649341342 0.00755846536702151" rpy="0 0 0" />
      <mass value="0.00205195671379772" />
      <inertia ixx="8.14944652395064E-08" ixy="4.70955665732311E-12" ixz="2.92740657063271E-08"
               iyy="1.89813738079667E-07" iyz="-4.49039618473885E-12" izz="1.96094351731653E-07" />
    </inertial>
    <visual>
      <origin xyz="0 0 0" rpy="0 0 0" />
      <geometry>
        <mesh filename="package://k100_description/meshes/meshes_rohand_lites/L_rf_proximal_link.STL" />
      </geometry>
      <material name="">
        <color rgba="1 1 1 1" />
      </material>
    </visual>
    <collision>
      <origin xyz="0 0 0" rpy="0 0 0" />
      <geometry>
        <mesh filename="package://k100_description/meshes/meshes_rohand_lites/L_rf_proximal_link.STL" />
      </geometry>
    </collision>
  </link>

<!-- Note: 坐标轴x旋转了180度，暂时改旋转轴向 -->
  <joint name="L_ring_proximal_joint" type="revolute">
    <origin xyz="-0.10852 0.00052975 0.0024009" rpy="3.1414 0 0.034153" />
    <parent link="L_hand_base_link" />
    <child link="L_ring_proximal" />
    <axis xyz="0 1 0" />
    <limit lower="0" upper="1.2" effort="1" velocity="2.0" acceleration="5.0" />
  </joint>

  <link name="L_ring_intermediate">
    <inertial>
      <origin xyz="-0.0121730609739191 -0.00644820716902625 -0.0159684309110027" rpy="0 0 0" />
      <mass value="0.00375858491630908" />
      <inertia ixx="2.66337255501028E-07" ixy="-2.83461617317305E-10" ixz="-1.75817185730185E-07"
               iyy="4.1718477440461E-07" iyz="-3.26281131146206E-10" izz="2.08412424444304E-07" />
    </inertial>
    <visual>
      <origin xyz="0 0 0" rpy="0 0 0" />
      <geometry>
        <mesh filename="package://k100_description/meshes/meshes_rohand_lites/L_rf_distal_link.STL" />
      </geometry>
      <material name="">
        <color rgba="1 1 1 1" />
      </material>
    </visual>
    <collision>
      <origin xyz="0 0 0" rpy="0 0 0" />
      <geometry>
        <mesh filename="package://k100_description/meshes/meshes_rohand_lites/L_rf_distal_link.STL" />
      </geometry>
    </collision>
  </link>

  <joint name="L_ring_intermediate_joint" type="revolute">
    <origin xyz="-0.030791 0.00036828 0.010696" rpy="-3.1374 0.00011174 0.0076423" />
    <parent link="L_ring_proximal" />
    <child link="L_ring_intermediate" />
    <axis xyz="0 -1 0" />
    <limit lower="0" upper="1.7" effort="1" velocity="2.0" acceleration="5.0" />
    <mimic joint="L_ring_proximal_joint" multiplier="1" offset="0" />
  </joint>

  <link name="L_pinky_proximal">
    <inertial>
      <origin xyz="-0.0126783172515542 -0.00650017197922771 -0.00752321049293611" rpy="0 0 0" />
      <mass value="0.00183703203876047" />
      <inertia ixx="7.28737257765291E-08" ixy="2.35202799697226E-12" ixz="-2.23948893152069E-08"
               iyy="1.40967655054569E-07" iyz="-1.69318267527159E-13" izz="1.47027755964671E-07" />
    </inertial>
    <visual>
      <origin xyz="0 0 0" rpy="0 0 0" />
      <geometry>
        <mesh filename="package://k100_description/meshes/meshes_rohand_lites/L_lf_proximal_link.STL" />
      </geometry>
      <material name="">
        <color rgba="1 1 1 1" />
      </material>
    </visual>
    <collision>
      <origin xyz="0 0 0" rpy="0 0 0" />
      <geometry>
        <mesh filename="package://k100_description/meshes/meshes_rohand_lites/L_lf_proximal_link.STL" />
      </geometry>
    </collision>
  </link>

  <joint name="L_pinky_proximal_joint" type="revolute">
    <origin xyz="-0.10588 -0.01818 0.00065724" rpy="0.08682 -0.0083534 0.09568" />
    <parent link="L_hand_base_link" />
    <child link="L_pinky_proximal" />
    <axis xyz="0 -1 0" />
    <limit lower="0" upper="1.2" effort="1" velocity="2.0" acceleration="5.0" />
  </joint>

  <link name="L_pinky_intermediate">
    <inertial>
      <origin xyz="-0.00651882753544765 -0.00644854835323535 -0.0135103943691352" rpy="0 0 0" />
      <mass value="0.00243586918410262" />
      <inertia ixx="1.19172237830121E-07" ixy="-9.23092755649748E-11" ixz="-4.29645591151488E-08"
               iyy="1.418248902462E-07" iyz="-1.66762811141822E-10" izz="5.41634126707913E-08" />
    </inertial>
    <visual>
      <origin xyz="0 0 0" rpy="0 0 0" />
      <geometry>
        <mesh filename="package://k100_description/meshes/meshes_rohand_lites/L_lf_distal_link.STL" />
      </geometry>
      <material name="">
        <color rgba="1 1 1 1" />
      </material>
    </visual>
    <collision>
      <origin xyz="0 0 0" rpy="0 0 0" />
      <geometry>
        <mesh filename="package://k100_description/meshes/meshes_rohand_lites/L_lf_distal_link.STL" />
      </geometry>
    </collision>
  </link>

  <joint name="L_pinky_intermediate_joint" type="revolute">
    <origin xyz="-0.026922 -5.0837E-05 -0.010935" rpy="0 0 0" />
    <parent link="L_pinky_proximal" />
    <child link="L_pinky_intermediate" />
    <axis xyz="0 -1 0" />
    <limit lower="0" upper="1.7" effort="1" velocity="2.0" acceleration="5.0" />
    <mimic joint="L_pinky_proximal_joint" multiplier="1" offset="0" />
  </joint>


<!-- right hand -->


  <joint name="R_base_link_joint" type="fixed">
    <origin xyz="-0.0268 -0.005 -0.051" rpy="0 -1.57 1.57"/>
    <parent link="right_wrist_yaw_link"/>
    <child link="R_hand_base_link"/>
  </joint>
  

  <link name="R_hand_base_link">
    <inertial>
      <origin xyz="-0.0576030661180955 0.00233560896319593 -0.00133218779459777" rpy="0 0 0" />
      <mass value="0.0493249140792959" />
      <inertia ixx="1.94571823302338E-05" ixy="-1.38729153384568E-06" ixz="1.07807983669446E-06"
               iyy="2.67719341990073E-05" iyz="-3.07356342974464E-07" izz="4.02773132726367E-05" />
    </inertial>
    <visual>
      <origin xyz="0 0 0" rpy="0 0 0" />
      <geometry>
        <mesh filename="package://k100_description/meshes/meshes_rohand_lites/R_base_link.STL" />
      </geometry>
      <material name="">
        <color rgba="1 1 1 1" />
      </material>
    </visual>
    <collision>
      <origin xyz="0 0 0" rpy="0 0 0" />
      <geometry>
        <mesh filename="package://k100_description/meshes/meshes_rohand_lites/R_base_link.STL" />
      </geometry>
    </collision>
  </link>

  <link name="R_thumb_proximal_base">
    <inertial>
      <origin xyz="-0.0191686509683619 -0.00572418793751744 -0.00158132841516827" rpy="0 0 0" />
      <mass value="0.00195350966248874" />
      <inertia ixx="1.65972225377993E-07" ixy="-7.97825490860689E-08" ixz="-1.04261831309922E-08"
               iyy="1.8111092952085E-07" iyz="-1.1733271461248E-08" izz="2.16718599283951E-07" />
    </inertial>
    <visual>
      <origin xyz="0 0 0" rpy="0 0 0" />
      <geometry>
        <mesh filename="package://k100_description/meshes/meshes_rohand_lites/R_th_root_link.STL" />
      </geometry>
      <material name="">
        <color rgba="1 1 1 1" />
      </material>
    </visual>
    <collision>
      <origin xyz="0 0 0" rpy="0 0 0" />
      <geometry>
        <mesh filename="package://k100_description/meshes/meshes_rohand_lites/R_th_root_link.STL" />
      </geometry>
    </collision>
  </link>

  <joint name="R_thumb_proximal_yaw_joint" type="revolute">
    <origin xyz="-0.025954 -0.01648 -0.019186" rpy="0.0078865 -0.22303 -0.035641" />
    <parent link="R_hand_base_link" />
    <child link="R_thumb_proximal_base" />
    <axis xyz="1 0 0" />
    <limit lower="-0.1" upper="1.7" effort="1" velocity="2.0" acceleration="5.0" />
  </joint>

  <link name="R_thumb_proximal">
    <inertial>
      <origin xyz="-0.0190126820702974 -0.00637807841543053 0.00769785866417869" rpy="0 0 0" />
      <mass value="0.00646388849033333" />
      <inertia ixx="5.07687345462868E-07" ixy="-4.14559349698037E-07" ixz="-1.8674365709823E-09"
               iyy="1.73768654791953E-06" iyz="-4.20029512218484E-10" izz="2.12756394178572E-06" />
    </inertial>
    <visual>
      <origin xyz="0 0 0" rpy="0 0 0" />
      <geometry>
        <mesh filename="package://k100_description/meshes/meshes_rohand_lites/R_th_proximal_link.STL" />
      </geometry>
      <material name="">
        <color rgba="1 1 1 1" />
      </material>
    </visual>
    <collision>
      <origin xyz="0 0 0" rpy="0 0 0" />
      <geometry>
        <mesh filename="package://k100_description/meshes/meshes_rohand_lites/R_th_proximal_link.STL" />
      </geometry>
    </collision>
  </link>

  <joint name="R_thumb_proximal_pitch_joint" type="revolute">
    <origin xyz="-0.028168 -0.020837 -0.010094" rpy="-0.0082402 0.00028649 0.034758" />
    <parent link="R_thumb_proximal_base" />
    <child link="R_thumb_proximal" />
    <axis xyz="0 0 -1" />
    <limit lower="0.0" upper="0.4" effort="1" velocity="2.0" acceleration="5.0" />
  </joint>

  <link name="R_thumb_distal">
    <inertial>
      <origin xyz="-0.0094593690473327 -0.0057218027674614 0.0068108911892128" rpy="0 0 0" />
      <mass value="0.00464616536496131" />
      <inertia ixx="1.70526363877279E-07" ixy="-1.70171405060127E-08" ixz="-3.06434125828904E-12"
               iyy="2.37897880292055E-07" iyz="1.31087369006255E-12" izz="2.09937364304614E-07" />
    </inertial>
    <visual>
      <origin xyz="0 0 0" rpy="0 0 0" />
      <geometry>
        <mesh filename="package://k100_description/meshes/meshes_rohand_lites/R_th_distal_link.STL" />
      </geometry>
      <material name="">
        <color rgba="1 1 1 1" />
      </material>
    </visual>
    <collision>
      <origin xyz="0 0 0" rpy="0 0 0" />
      <geometry>
        <mesh filename="package://k100_description/meshes/meshes_rohand_lites/R_th_distal_link.STL" />
      </geometry>
    </collision>
  </link>

  <joint name="R_thumb_distal_joint" type="revolute">
    <origin xyz="-0.048752 -0.010712 0.00087944" rpy="0 0 0" />
    <parent link="R_thumb_proximal" />
    <child link="R_thumb_distal" />
    <axis xyz="0 0 -1" />
    <limit lower="0" upper="1.2" effort="1" velocity="2.0" acceleration="5.0" />
    <mimic joint="R_thumb_proximal_pitch_joint" multiplier="1.0" offset="0" />
  </joint>

  <link name="R_index_proximal">
    <inertial>
      <origin xyz="-0.0143787205756178 0.0068202042615699 -0.00751216413311831" rpy="0 0 0" />
      <mass value="0.00205183706838826" />
      <inertia ixx="8.13016698160853E-08" ixy="1.51094306482205E-11" ixz="-2.88949821390807E-08"
               iyy="1.89783171251403E-07" iyz="4.65572959060812E-12" izz="1.96251769923446E-07" />
    </inertial>
    <visual>
      <origin xyz="0 0 0" rpy="0 0 0" />
      <geometry>
        <mesh filename="package://k100_description/meshes/meshes_rohand_lites/R_if_proximal_link.STL" />
      </geometry>
      <material name="">
        <color rgba="1 1 1 1" />
      </material>
    </visual>
    <collision>
      <origin xyz="0 0 0" rpy="0 0 0" />
      <geometry>
        <mesh filename="package://k100_description/meshes/meshes_rohand_lites/R_if_proximal_link.STL" />
      </geometry>
    </collision>
  </link>

  <joint name="R_index_proximal_joint" type="revolute">
    <origin xyz="-0.10859 -0.029338 -0.0013861" rpy="0.086779 -0.00311 0.035733" />
    <parent link="R_hand_base_link" />
    <child link="R_index_proximal" />
    <axis xyz="0 -1 0" />
    <limit lower="0" upper="1.2" effort="1" velocity="2.0" acceleration="5.0" />
  </joint>

  <link name="R_index_intermediate">
    <inertial>
      <origin xyz="-0.012222373112902 0.00644744577874212 -0.0159308052491082" rpy="0 0 0" />
      <mass value="0.00375868071914677" />
      <inertia ixx="2.6526744005835E-07" ixy="2.68139132185787E-10" ixz="-1.76013365071367E-07"
               iyy="4.17225025361236E-07" iyz="3.16739936806118E-10" izz="2.09518827365182E-07" />
    </inertial>
    <visual>
      <origin xyz="0 0 0" rpy="0 0 0" />
      <geometry>
        <mesh filename="package://k100_description/meshes/meshes_rohand_lites/R_if_distal_link.STL" />
      </geometry>
      <material name="">
        <color rgba="1 1 1 1" />
      </material>
    </visual>
    <collision>
      <origin xyz="0 0 0" rpy="0 0 0" />
      <geometry>
        <mesh filename="package://k100_description/meshes/meshes_rohand_lites/R_if_distal_link.STL" />
      </geometry>
    </collision>
  </link>

  <joint name="R_index_intermediate_joint" type="revolute">
    <origin xyz="-0.030875 0.00036803 -0.010625" rpy="0 0 0" />
    <parent link="R_index_proximal" />
    <child link="R_index_intermediate" />
    <axis xyz="0 -1 0" />
    <limit lower="0" upper="1.7" effort="1" velocity="2.0" acceleration="5.0" />
    <mimic joint="R_index_proximal_joint" multiplier="1" offset="0" />
  </joint>

  <link name="R_middle_proximal">
    <inertial>
      <origin xyz="-0.016329453759154 0.00649226533975397 -0.00963384586033489" rpy="0 0 0" />
      <mass value="0.00248843296883051" />
      <inertia ixx="1.10610510723197E-07" ixy="-5.89496390356217E-11" ixz="-6.05126652788143E-08"
               iyy="2.8446139484122E-07" iyz="-4.21063735821963E-11" izz="2.7312514865437E-07" />
    </inertial>
    <visual>
      <origin xyz="0 0 0" rpy="0 0 0" />
      <geometry>
        <mesh filename="package://k100_description/meshes/meshes_rohand_lites/R_mf_proximal_link.STL" />
      </geometry>
      <material name="">
        <color rgba="1 1 1 1" />
      </material>
    </visual>
    <collision>
      <origin xyz="0 0 0" rpy="0 0 0" />
      <geometry>
        <mesh filename="package://k100_description/meshes/meshes_rohand_lites/R_mf_proximal_link.STL" />
      </geometry>
    </collision>
  </link>

  <joint name="R_middle_proximal_joint" type="revolute">
    <origin xyz="-0.111168350336371 -0.0107315849401363 0.00310533319557881" rpy="-0.000165024105879644 0 -0.0341875332667528" />
    <parent link="R_hand_base_link" />
    <child link="R_middle_proximal" />
    <axis xyz="0 -1 0" />
    <limit lower="0" upper="1.2" effort="1" velocity="2.0" acceleration="5.0" />
  </joint>

  <link name="R_middle_intermediate">
    <inertial>
      <origin xyz="-0.0117807102189178 0.00644198393359627 -0.0162599790204698" rpy="0 0 0" />
      <mass value="0.00375867884267013" />
      <inertia ixx="2.74876926237726E-07" ixy="2.59466981378291E-10" ixz="-1.7421907947615E-07"
               iyy="4.1722285891413E-07" iyz="3.23406111565757E-10" izz="1.99906902685593E-07" />
    </inertial>
    <visual>
      <origin xyz="0 0 0" rpy="0 0 0" />
      <geometry>
        <mesh filename="package://k100_description/meshes/meshes_rohand_lites/R_mf_distal_link.STL" />
      </geometry>
      <material name="">
        <color rgba="1 1 1 1" />
      </material>
    </visual>
    <collision>
      <origin xyz="0 0 0" rpy="0 0 0" />
      <geometry>
        <mesh filename="package://k100_description/meshes/meshes_rohand_lites/R_mf_distal_link.STL" />
      </geometry>
    </collision>
  </link>

  <joint name="R_middle_intermediate_joint" type="revolute">
    <origin xyz="-0.0348440227740655 5.03497035553302E-05 -0.0137271073982339" rpy="-0.00439882751506536 -0.000117257737364924 0.00753742768873965" />
    <parent link="R_middle_proximal" />
    <child link="R_middle_intermediate" />
    <axis xyz="0 -1 0" />
    <limit lower="0" upper="1.7" effort="1" velocity="2.0" acceleration="5.0" />
    <mimic joint="R_middle_proximal_joint" multiplier="1" offset="0" />
  </joint>

  <link name="R_ring_proximal">
    <inertial>
      <origin xyz="-0.0143549280434906 0.00682023657911832 -0.00755778479766486" rpy="0 0 0" />
      <mass value="0.00205187294843744" />
      <inertia ixx="8.14868585707663E-08" ixy="1.41861573407726E-11" ixz="-2.9259876910324E-08"
               iyy="1.89786107772236E-07" iyz="4.79988274178486E-12" izz="1.960702878707E-07" />
    </inertial>
    <visual>
      <origin xyz="0 0 0" rpy="0 0 0" />
      <geometry>
        <mesh filename="package://k100_description/meshes/meshes_rohand_lites/R_rf_proximal_link.STL" />
      </geometry>
      <material name="">
        <color rgba="1 1 1 1" />
      </material>
    </visual>
    <collision>
      <origin xyz="0 0 0" rpy="0 0 0" />
      <geometry>
        <mesh filename="package://k100_description/meshes/meshes_rohand_lites/R_rf_proximal_link.STL" />
      </geometry>
    </collision>
  </link>

  <joint name="R_ring_proximal_joint" type="revolute">
    <origin xyz="-0.10829 0.007056 0.0024304" rpy="0.00015789 1.6485E-05 -0.10403" />
    <parent link="R_hand_base_link" />
    <child link="R_ring_proximal" />
    <axis xyz="0 -1 0" />
    <limit lower="0" upper="1.2" effort="1" velocity="2.0" acceleration="5.0" />
  </joint>

  <link name="R_ring_intermediate">
    <inertial>
      <origin xyz="-0.0121787543720058 0.0064475580290749 -0.0159643969071744" rpy="0 0 0" />
      <mass value="0.00375873422510174" />
      <inertia ixx="2.66234188468105E-07" ixy="2.66619623996111E-10" ixz="-1.75861376428997E-07"
               iyy="4.17230114265725E-07" iyz="3.17193421265111E-10" izz="2.0855875648093E-07" />
    </inertial>
    <visual>
      <origin xyz="0 0 0" rpy="0 0 0" />
      <geometry>
        <mesh filename="package://k100_description/meshes/meshes_rohand_lites/R_rf_distal_link.STL" />
      </geometry>
      <material name="">
        <color rgba="1 1 1 1" />
      </material>
    </visual>
    <collision>
      <origin xyz="0 0 0" rpy="0 0 0" />
      <geometry>
        <mesh filename="package://k100_description/meshes/meshes_rohand_lites/R_rf_distal_link.STL" />
      </geometry>
    </collision>
  </link>

  <joint name="R_ring_intermediate_joint" type="revolute">
    <origin xyz="-0.030791 0.00036828 -0.010696" rpy="-0.0042136 -0.0004074 0.0076437" />
    <parent link="R_ring_proximal" />
    <child link="R_ring_intermediate" />
    <axis xyz="0 -1 0" />
    <limit lower="0" upper="1.7" effort="1" velocity="2.0" acceleration="5.0" />
    <mimic joint="R_ring_proximal_joint" multiplier="1" offset="0" />
  </joint>

  <link name="R_pinky_proximal">
    <inertial>
      <origin xyz="-0.0127241110356107 0.00649957990170523 -0.00744483846071534" rpy="0 0 0" />
      <mass value="0.00183686407359195" />
      <inertia ixx="7.25936420936618E-08" ixy="1.26029064472353E-12" ixz="-2.19325321953627E-08"
               iyy="1.40948330406022E-07" iyz="-3.97609924901949E-13" izz="1.47282231216297E-07" />
    </inertial>
    <visual>
      <origin xyz="0 0 0" rpy="0 0 0" />
      <geometry>
        <mesh filename="package://k100_description/meshes/meshes_rohand_lites/R_lf_proximal_link.STL" />
      </geometry>
      <material name="">
        <color rgba="1 1 1 1" />
      </material>
    </visual>
    <collision>
      <origin xyz="0 0 0" rpy="0 0 0" />
      <geometry>
        <mesh filename="package://k100_description/meshes/meshes_rohand_lites/R_lf_proximal_link.STL" />
      </geometry>
    </collision>
  </link>

  <joint name="R_pinky_proximal_joint" type="revolute">
    <origin xyz="-0.10436 0.025536 0.00068678" rpy="-0.086826 -0.014497 -0.16502" />
    <parent link="R_hand_base_link" />
    <child link="R_pinky_proximal" />
    <axis xyz="0 -1 0" />
    <limit lower="0" upper="1.2" effort="1" velocity="2.0" acceleration="5.0" />
  </joint>

  <link name="R_pinky_intermediate">
    <inertial>
      <origin xyz="-0.00660185291159945 0.00644841570480648 -0.0134694736191499" rpy="0 0 0" />
      <mass value="0.00243556509111398" />
      <inertia ixx="1.18626211477515E-07" ixy="9.45828083556239E-11" ixz="-4.33572574582032E-08"
               iyy="1.41808396396924E-07" iyz="1.67029567238108E-10" izz="5.46901618733586E-08" />
    </inertial>
    <visual>
      <origin xyz="0 0 0" rpy="0 0 0" />
      <geometry>
        <mesh filename="package://k100_description/meshes/meshes_rohand_lites/R_lf_distal_link.STL" />
      </geometry>
      <material name="">
        <color rgba="1 1 1 1" />
      </material>
    </visual>
    <collision>
      <origin xyz="0 0 0" rpy="0 0 0" />
      <geometry>
        <mesh filename="package://k100_description/meshes/meshes_rohand_lites/R_lf_distal_link.STL" />
      </geometry>
    </collision>
  </link>

  <joint name="R_pinky_intermediate_joint" type="revolute">
    <origin xyz="-0.026989 5.0837E-05 -0.010769" rpy="0 0 0" />
    <parent link="R_pinky_proximal" />
    <child link="R_pinky_intermediate" />
    <axis xyz="0 -1 0" />
    <limit lower="0" upper="1.7" effort="1" velocity="2.0" acceleration="5.0" />
    <mimic joint="R_pinky_proximal_joint" multiplier="1" offset="0" />
  </joint>
</robot>
